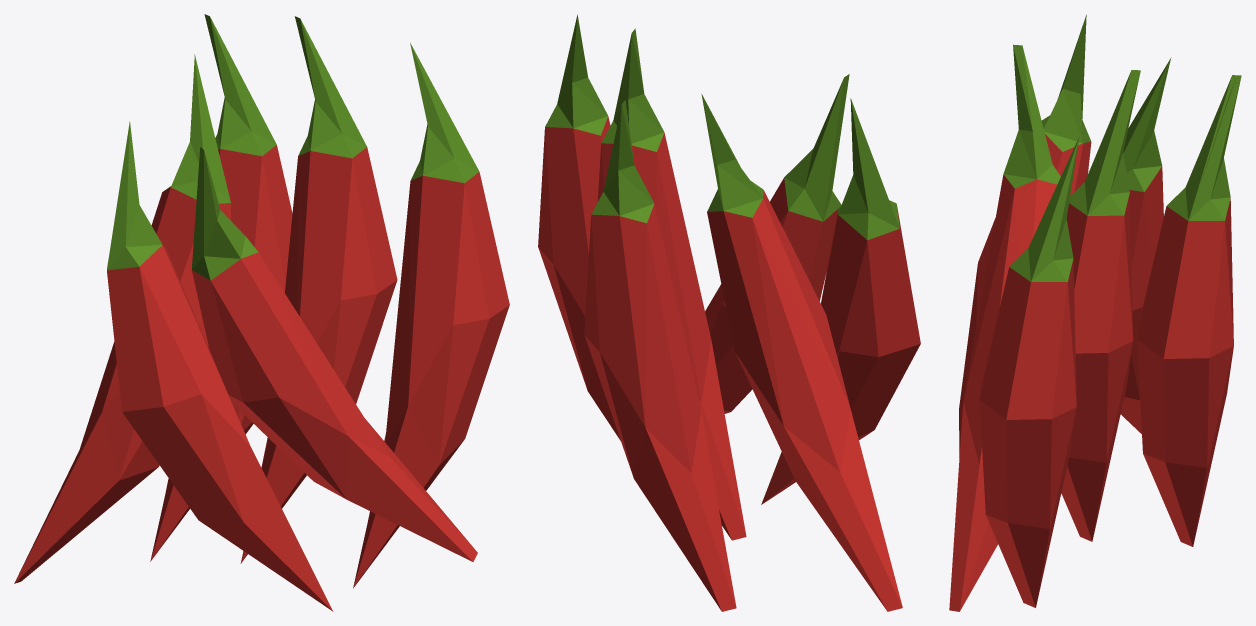
The model's file is cabe.fbx.
The picture shows the model from 3 angles, left to right: view 1: azimuth 30°, elevation 25°; view 2: azimuth 150°, elevation 25°; view 3: azimuth 270°, elevation 25°; orthographic projection.
Visible parts, largest first — view 1: cabe; view 2: cabe; view 3: cabe.
Boxes of the visible parts, bbox=[...] form: cabe: bbox=[14, 14, 509, 611]; cabe: bbox=[538, 14, 920, 611]; cabe: bbox=[949, 14, 1241, 611].
Bounding box in the file's own units: 15.51 × 18.6 × 9.22.
